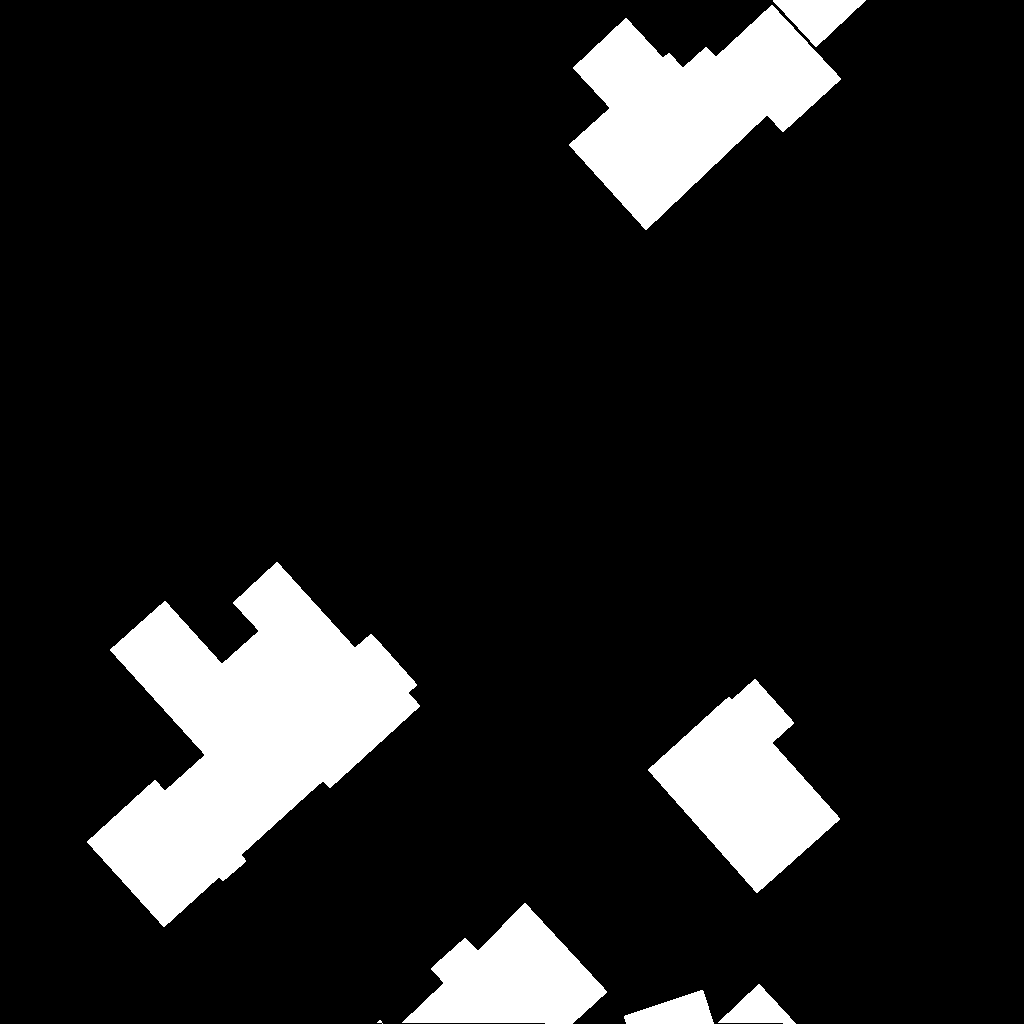building: (87, 562, 421, 928), (569, 5, 842, 231), (648, 679, 841, 894), (377, 903, 608, 1024), (772, 0, 867, 48), (718, 984, 797, 1024), (624, 990, 715, 1024)
